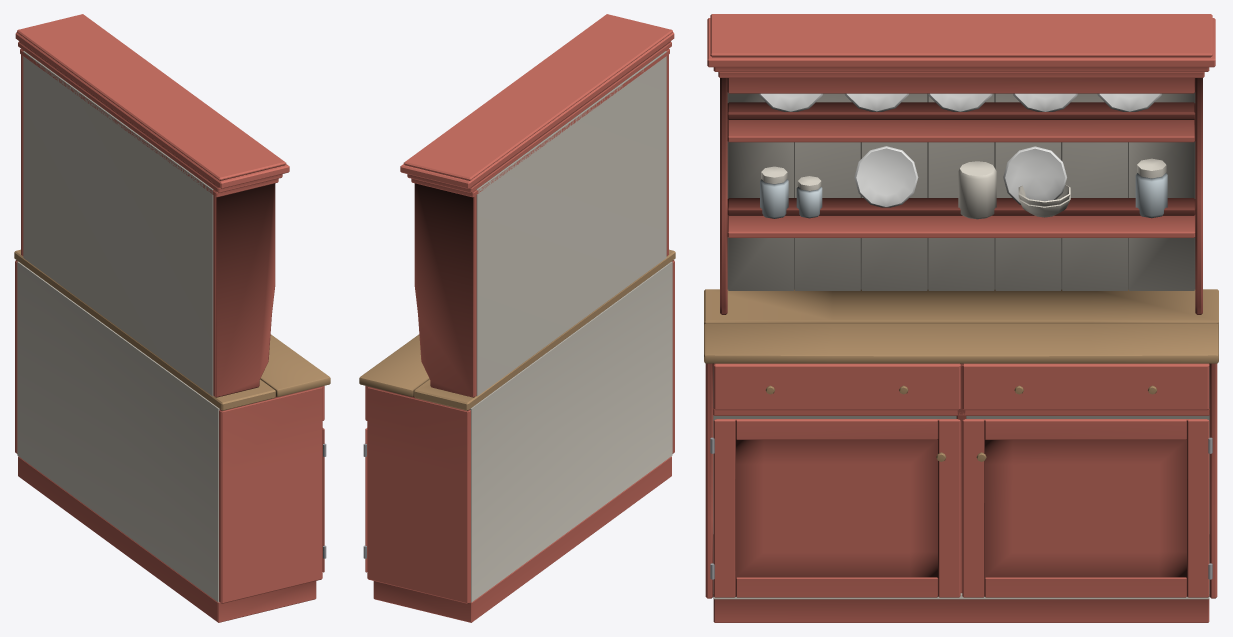
Rendered from cupboard_s.glb.
3 views of the same model, side by side, from view 1: azimuth 30°, elevation 25°; view 2: azimuth 150°, elevation 25°; view 3: azimuth 270°, elevation 25° (orthographic). The views are drawn at different scales.
Visible parts, largest first — view 1: PART; view 2: PART; view 3: PART, DOOR_L, DOOR_R, DRAWER_1, DRAWER_2.
Boxes of the visible parts, left/top/right/bottom form: PART: left=14, top=14, right=330, bottom=622; PART: left=359, top=14, right=675, bottom=622; PART: left=704, top=14, right=1218, bottom=622; DOOR_L: left=962, top=419, right=1209, bottom=597; DOOR_R: left=713, top=419, right=960, bottom=597; DRAWER_1: left=962, top=363, right=1209, bottom=410; DRAWER_2: left=713, top=363, right=960, bottom=410.
Bounding box in the file's own units: 0.503 × 1.9 × 1.61.
